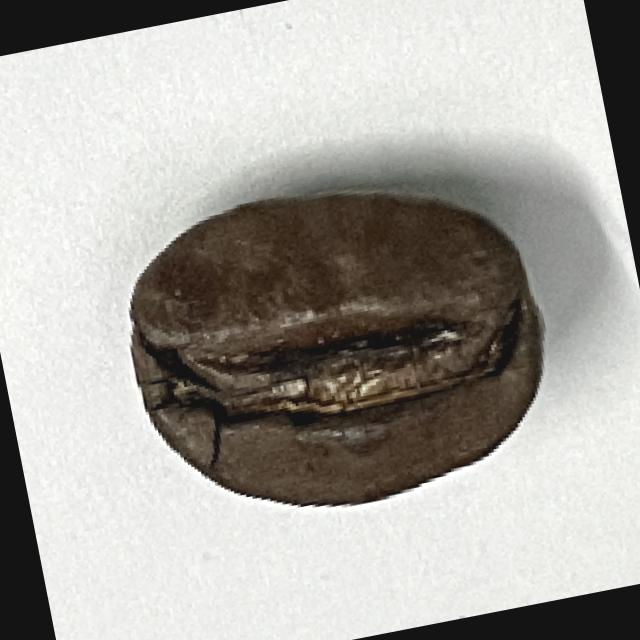bean: (99, 154, 572, 547)
